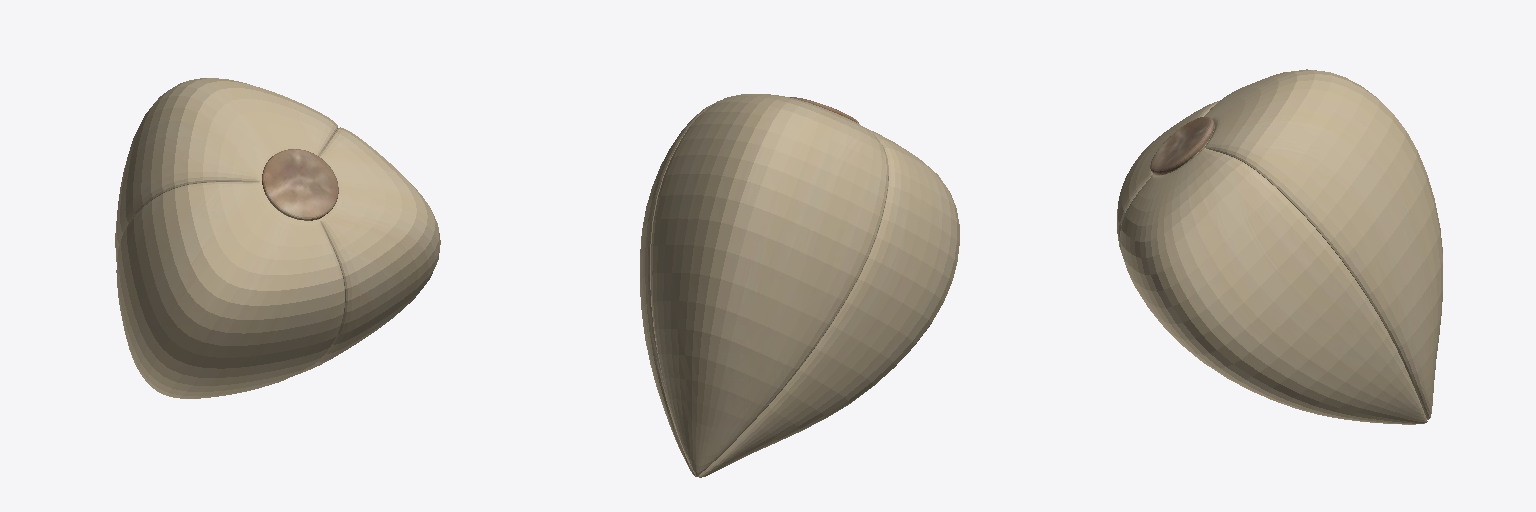
3 renders of one model, left to right at view 1: azimuth 30°, elevation 25°; view 2: azimuth 150°, elevation 25°; view 3: azimuth 270°, elevation 25°, orthographic.
Visible parts, largest first — view 1: GrainBuckwheat025; view 2: GrainBuckwheat025; view 3: GrainBuckwheat025.
Boxes of the visible parts, x1,y1,x2,y2 form: GrainBuckwheat025: [115, 78, 440, 398]; GrainBuckwheat025: [640, 94, 959, 477]; GrainBuckwheat025: [1117, 69, 1442, 424].
Bounding box in the file's own units: 0.0266 × 0.0299 × 0.0265.
Materials: 1 (1 with a texture image).